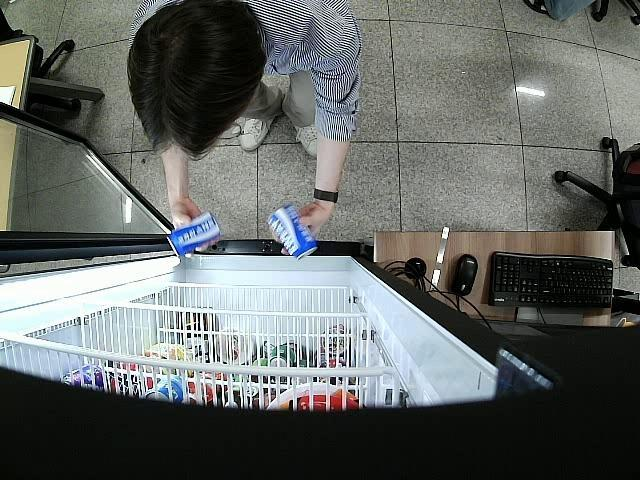13_pocariSweat: (266, 202, 316, 261), (170, 214, 223, 261)
